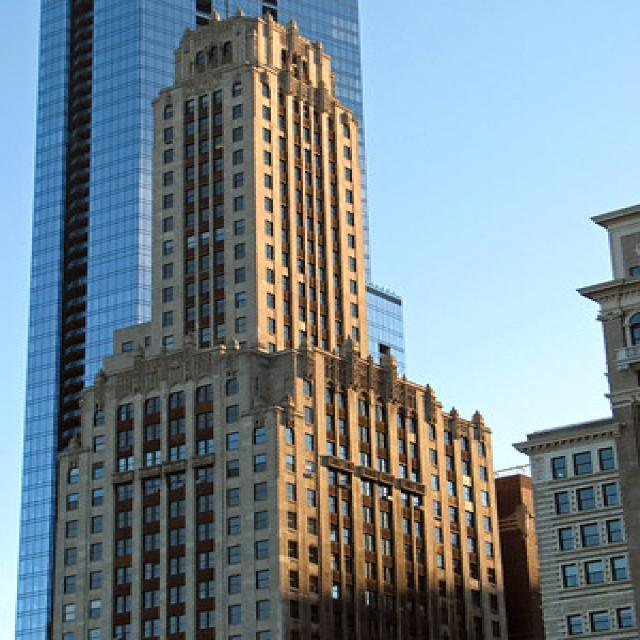Normal_building: (47, 8, 510, 640)
